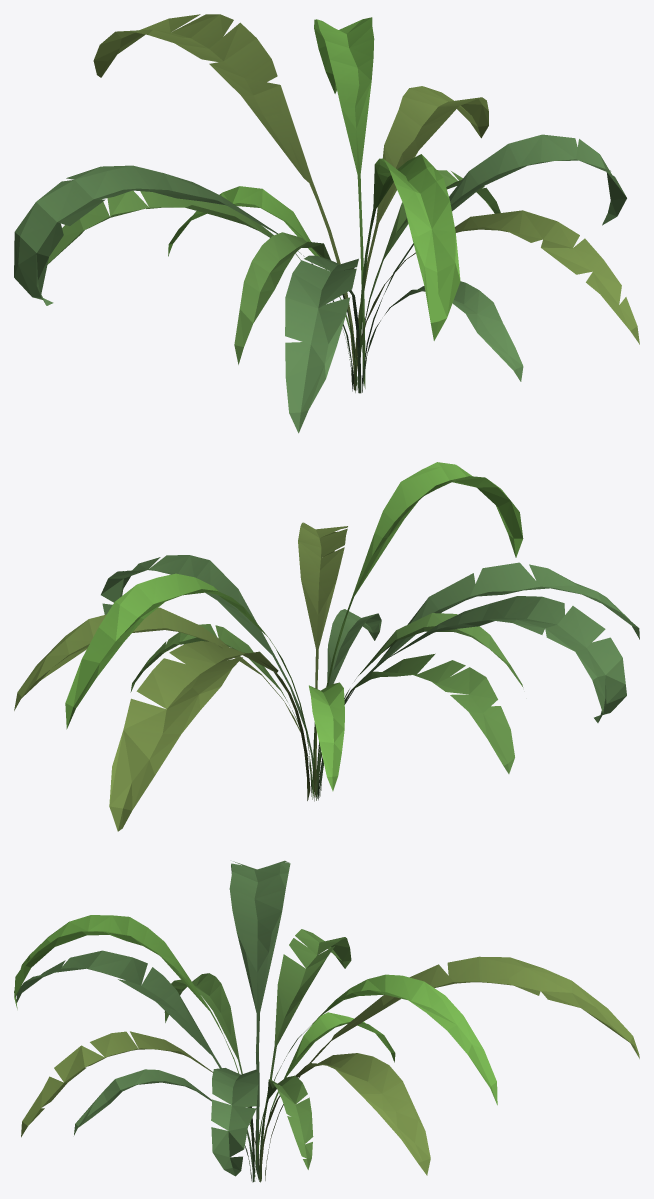
Rendered from Jungle_ThinFern_A.fbx.
3 views of the same model, one above another, from view 1: azimuth 30°, elevation 25°; view 2: azimuth 150°, elevation 25°; view 3: azimuth 270°, elevation 25° (orthographic). The views are drawn at different scales.
Visible parts, largest first — view 1: Jungle_ThinFern_A; view 2: Jungle_ThinFern_A; view 3: Jungle_ThinFern_A.
Boxes of the visible parts, x1,y1,x2,y2 form: Jungle_ThinFern_A: [14, 14, 639, 433]; Jungle_ThinFern_A: [14, 462, 639, 831]; Jungle_ThinFern_A: [14, 860, 639, 1182].
Size of the model in its own units: 4.19 by 2.1 by 4.88.
